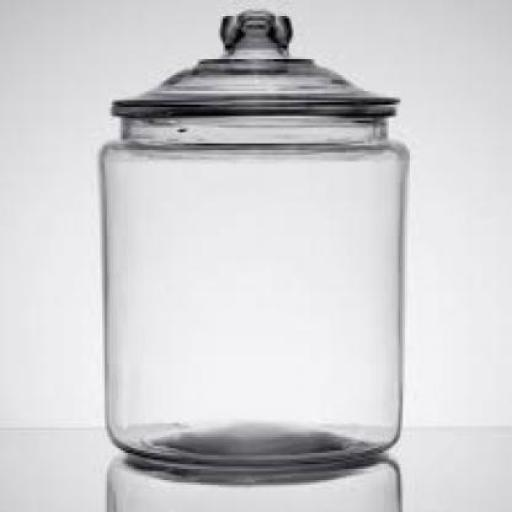glass: (98, 8, 400, 466)
